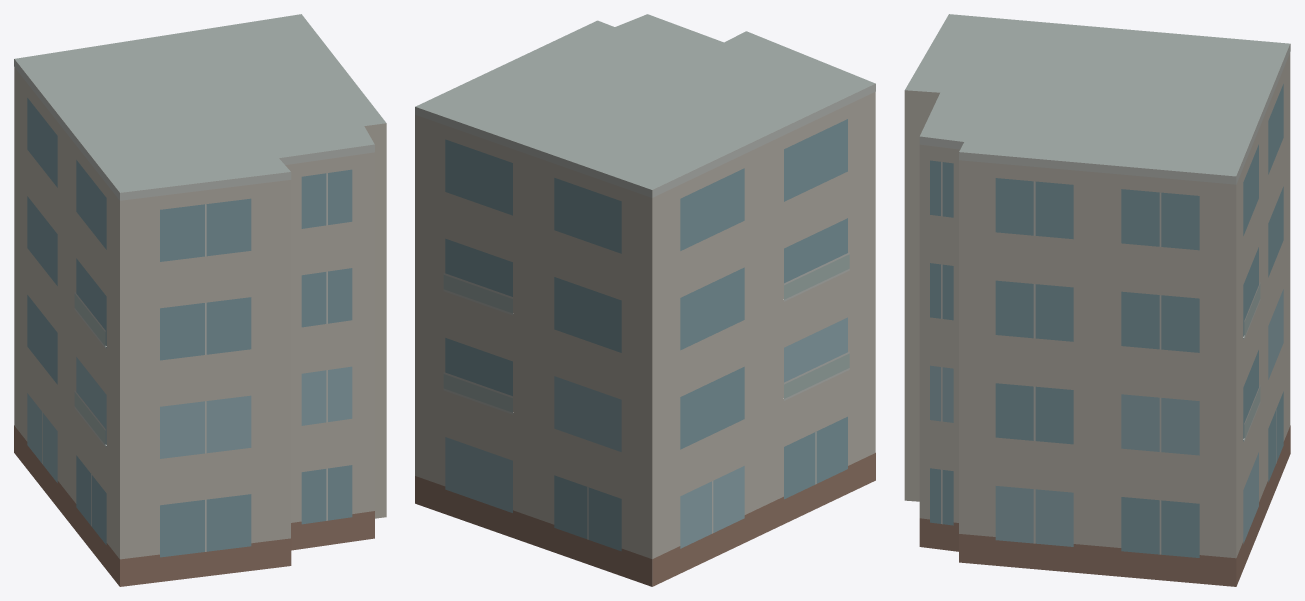
File: survey-upis-32724423.glb
3 renders of one model, left to right at view 1: azimuth 30°, elevation 25°; view 2: azimuth 150°, elevation 25°; view 3: azimuth 270°, elevation 25°, orthographic. The views are drawn at different scales.
Visible parts, largest first — view 1: survey-upis-32724423.tmp; view 2: survey-upis-32724423.tmp; view 3: survey-upis-32724423.tmp.
Part boxes in pixels (<box>): survey-upis-32724423.tmp: <box>14,14,386,586</box>; survey-upis-32724423.tmp: <box>415,14,875,586</box>; survey-upis-32724423.tmp: <box>904,14,1290,586</box>.
Bounding box in the file's own units: 10.36 × 12.2 × 10.4.
